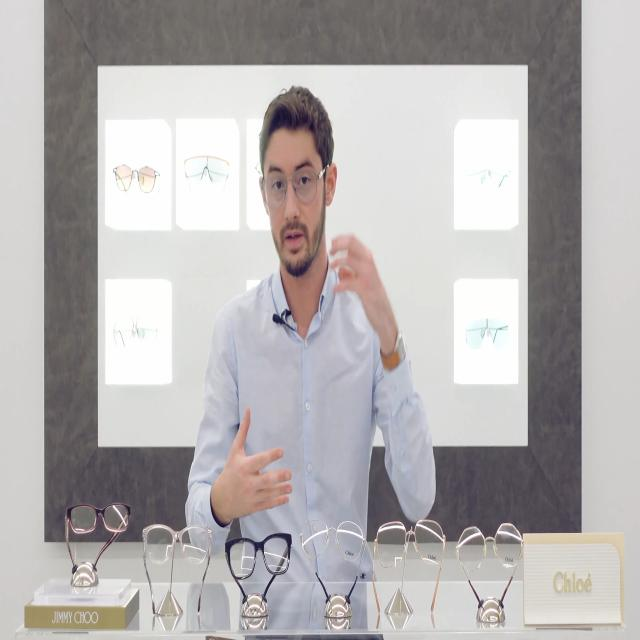dress: (184, 259, 437, 581)
glasses: (264, 164, 320, 210)
